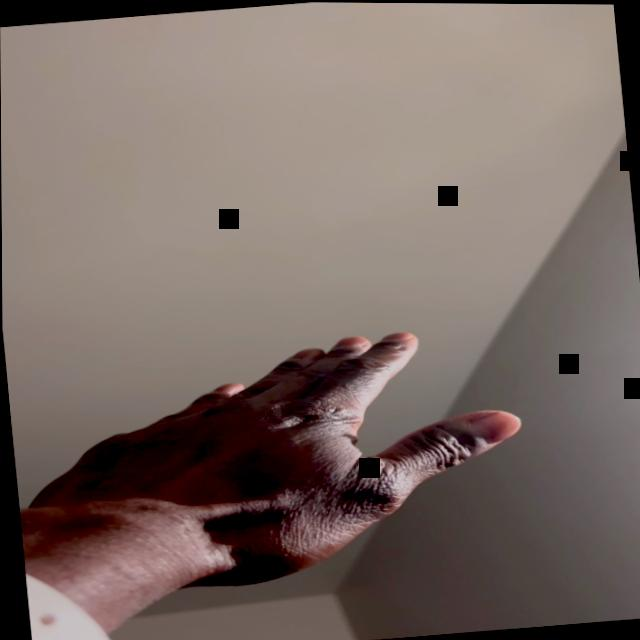Paper: (4, 314, 537, 605)
